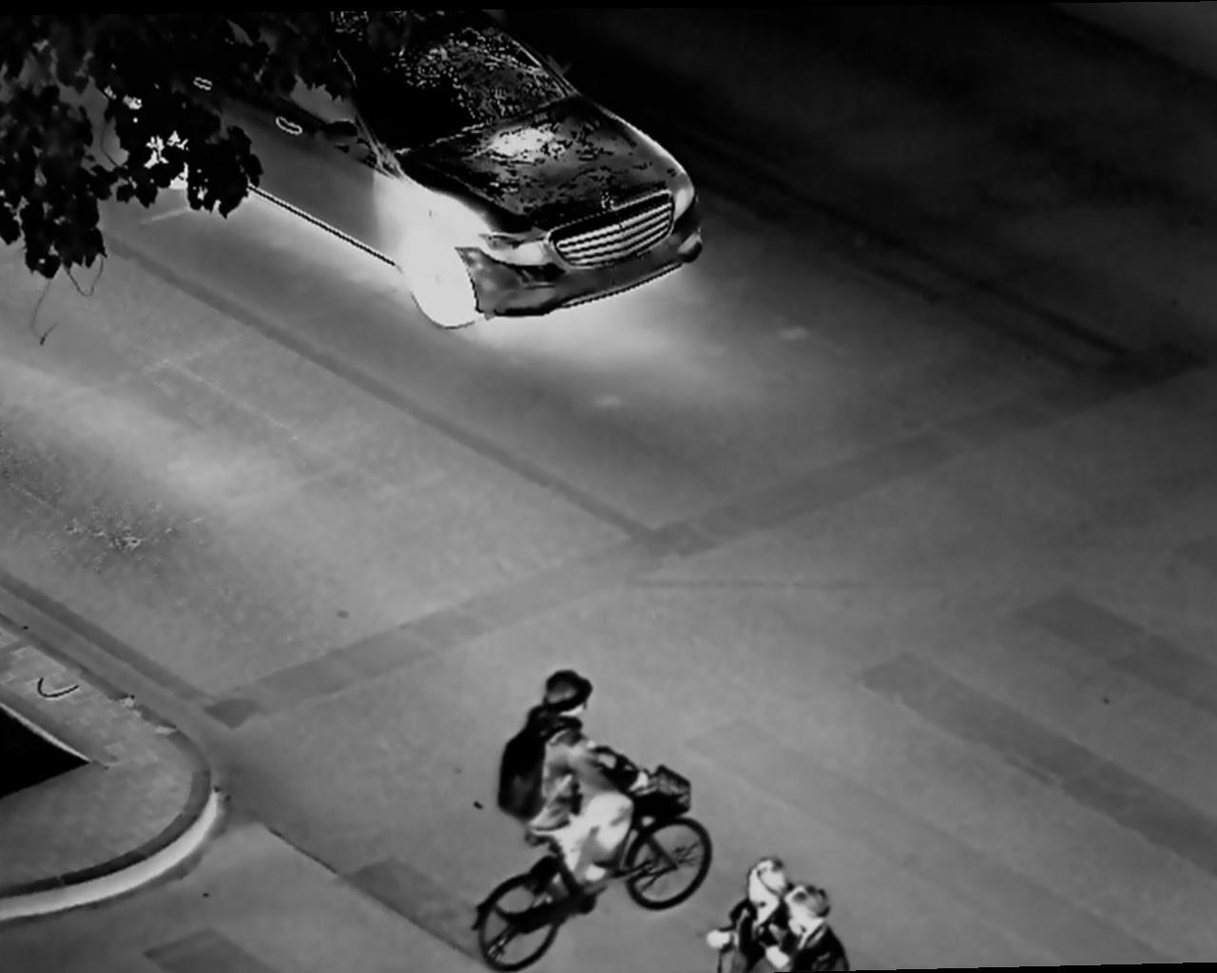person: (500, 669, 647, 908), (723, 842, 790, 973), (778, 887, 869, 973)
